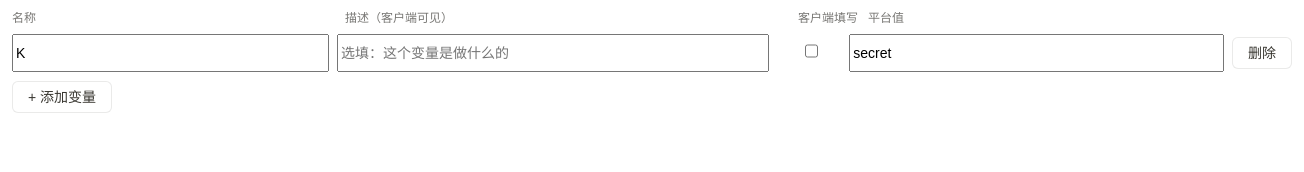
Test: ParamRowsEditor › 勾选客户端填写 → 平台值清空并禁用（互斥联动）
Click the checkbox: (811, 51) x1=805 y1=35 x2=818 y2=67
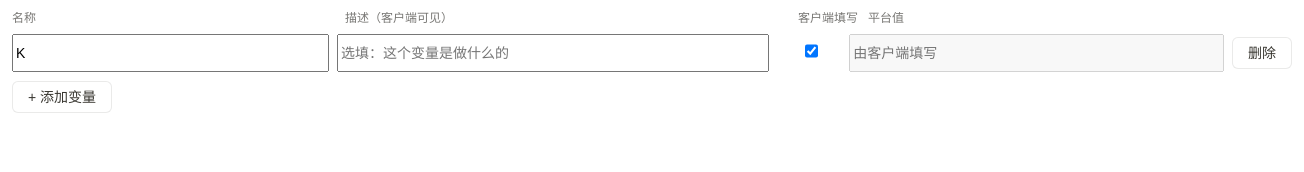
Check: the field with placeholder "由客户端填写" is disabled, box x1=849 y1=34 x2=1224 y2=72
